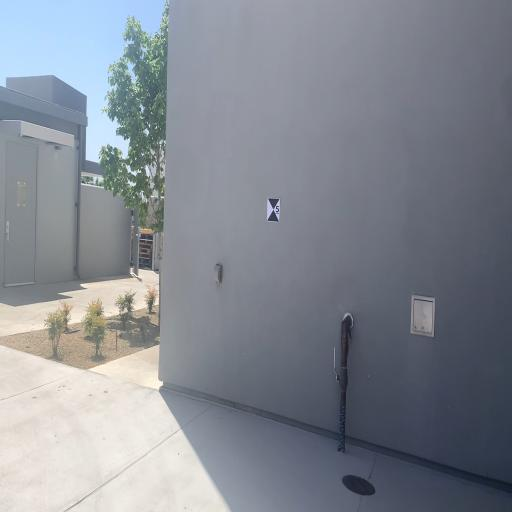target5: (267, 197, 280, 222)
